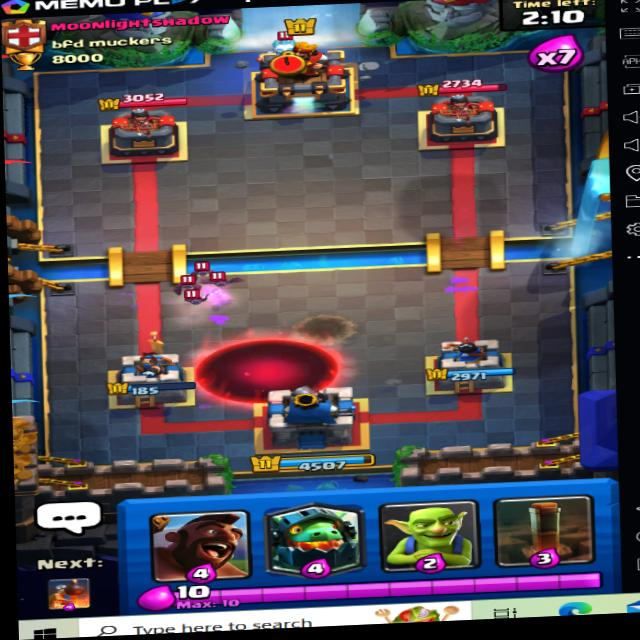bats: (204, 271, 243, 292), (167, 279, 211, 297), (177, 288, 215, 307), (184, 259, 217, 279)
ice-spirit: (262, 28, 302, 56)
void: (188, 335, 338, 407)
